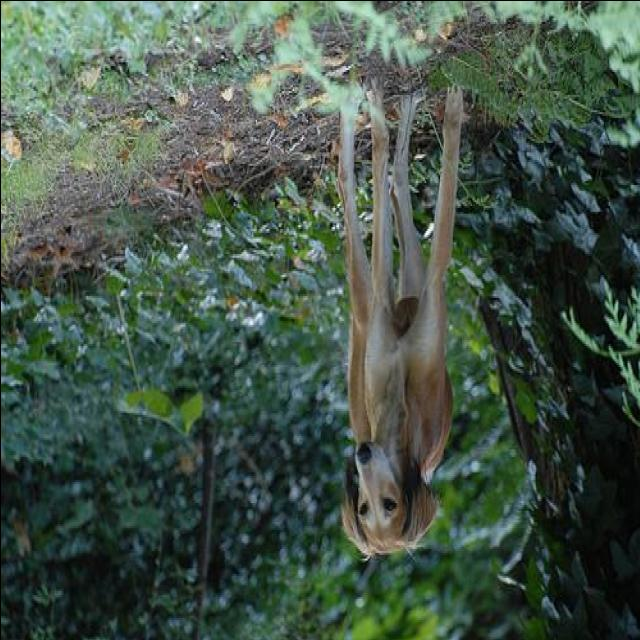saluki: (343, 78, 465, 556)
